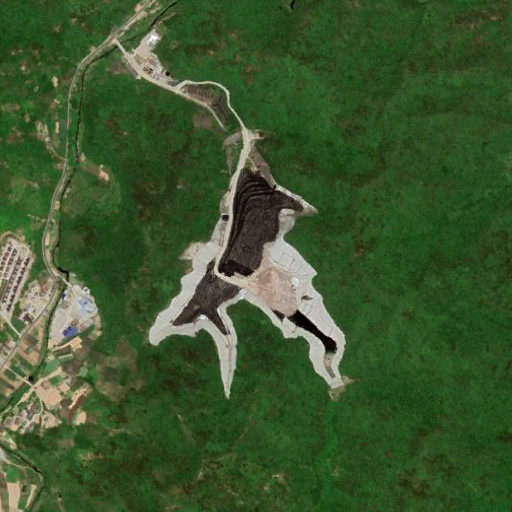lf: (148, 170, 348, 396)
